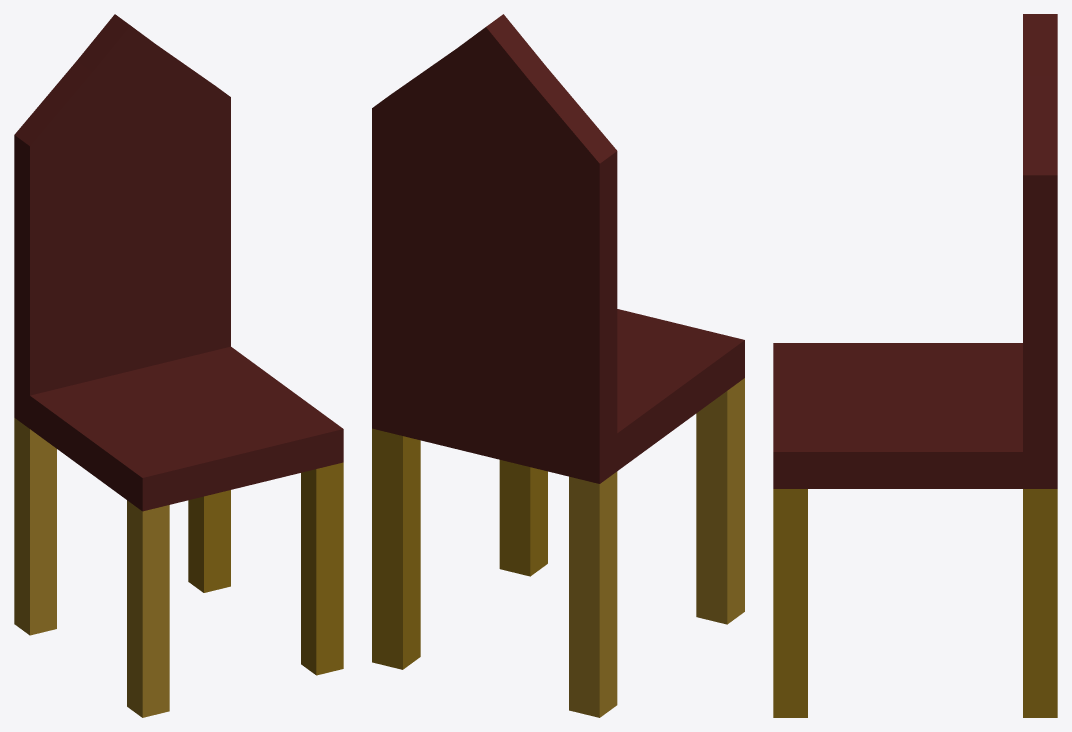
Rendered from chair.fbx.
3 renders of one model, left to right at view 1: azimuth 30°, elevation 25°; view 2: azimuth 150°, elevation 25°; view 3: azimuth 270°, elevation 25°, orthographic. The views are drawn at different scales.
Parts seen in each view (by area): view 1: Cube; view 2: Cube; view 3: Cube.
Part boxes in pixels (x1,y1,x2,y2): Cube: (14,14,343,717); Cube: (372,14,744,717); Cube: (773,14,1057,717).
Bounding box in the file's own units: 162 × 451 × 179.
